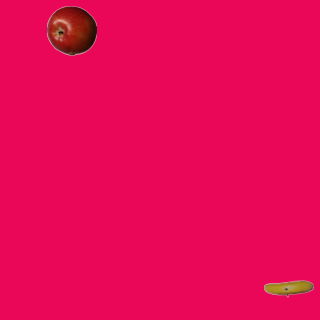Apple Braeburn: (46, 5, 96, 55)
Banana: (263, 263, 313, 313)
